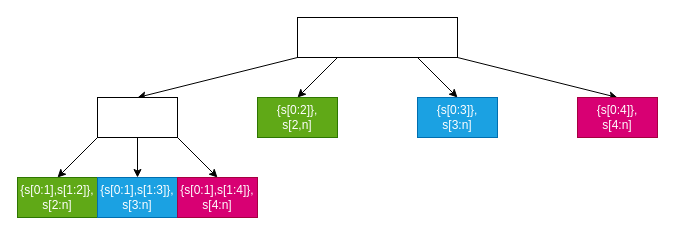
This 675x235 diagram has some shape labels left out. Each missing label, with the centre of its shape:
a0,a1,a2,a3,...,an-1: (x=377, y=37)
{s[0:1]}, s[1:n]: (x=137, y=117)
